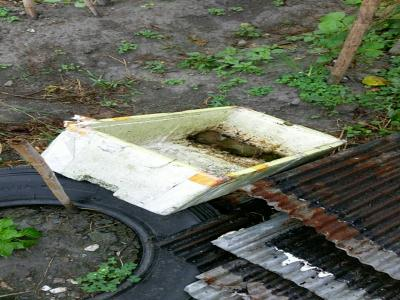plate: (39, 102, 349, 218)
